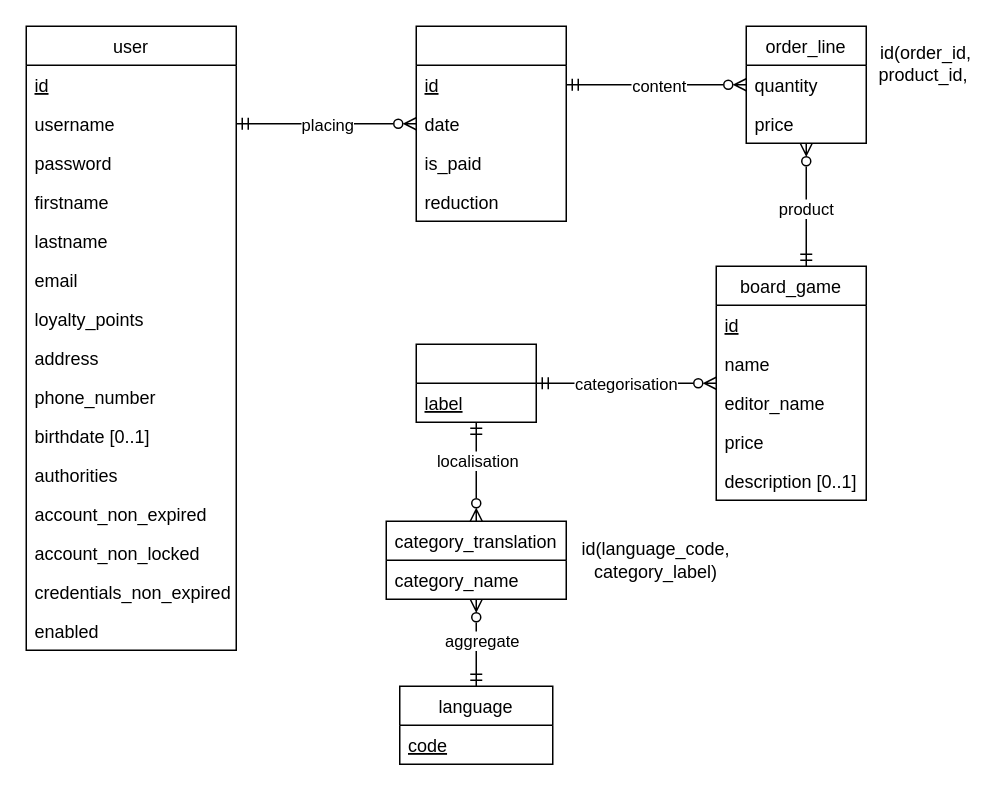
The diagram is 999 pixels wide and 795 high, and some of its shapes have lost their labels. The box of each missing label's shape, as (x1, y1, x2, y2) in pixels:
category: (415, 343, 536, 422)
order: (415, 25, 566, 221)
